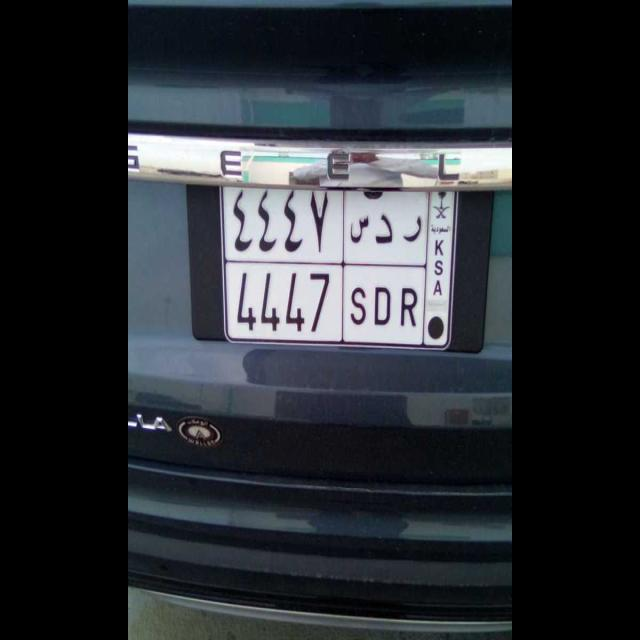license_plate: (221, 258, 424, 348)
